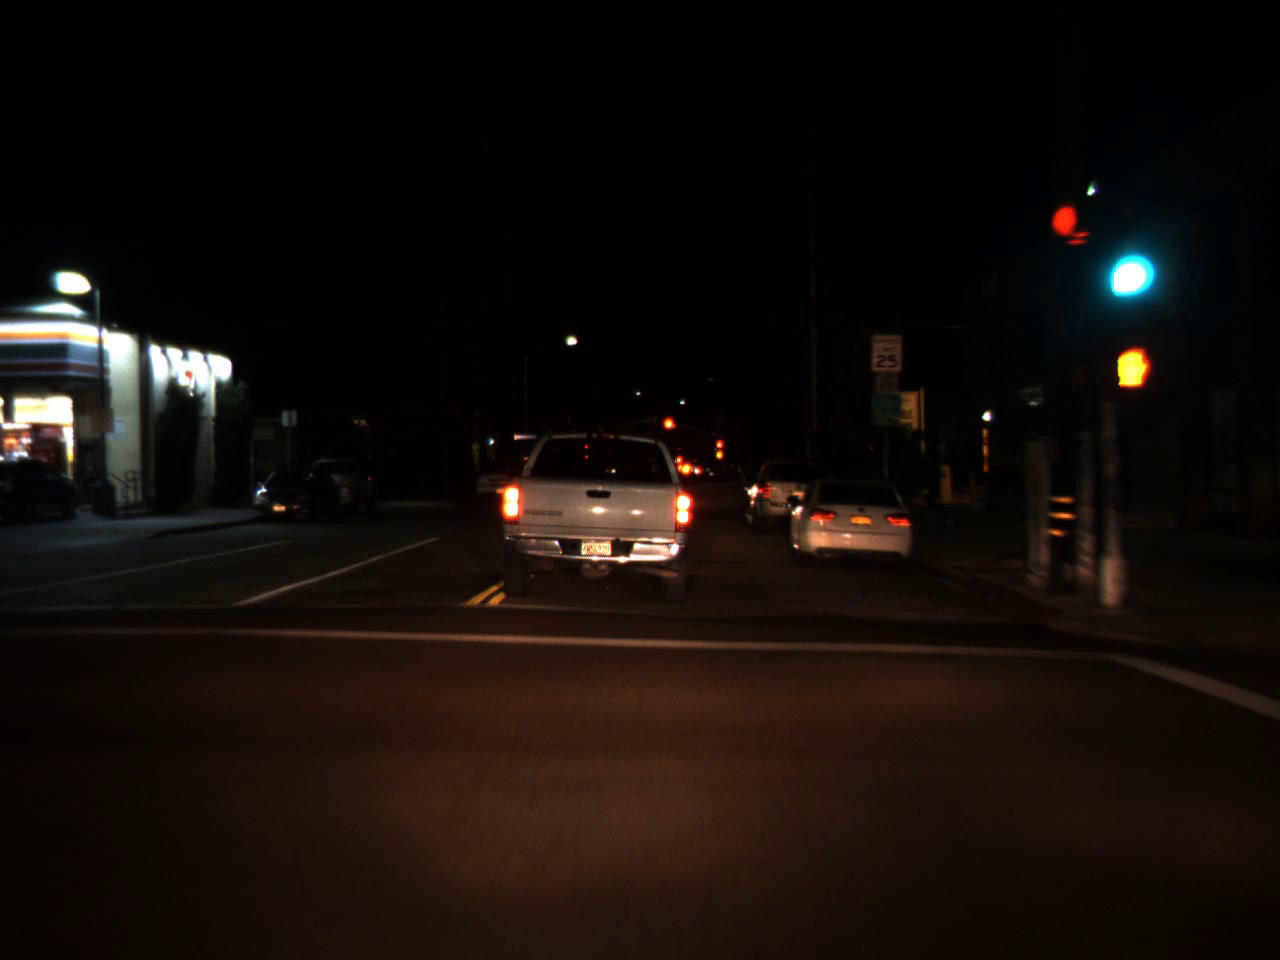go: (1100, 222, 1150, 306)
stop: (661, 415, 676, 442), (715, 438, 722, 459)
